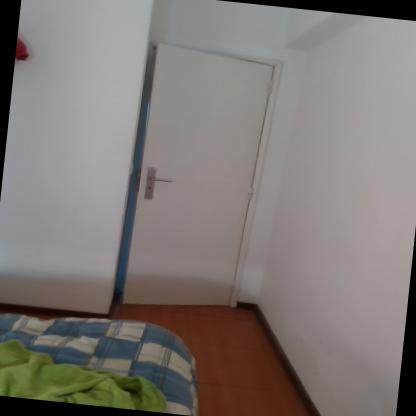closed: (108, 38, 286, 320)
